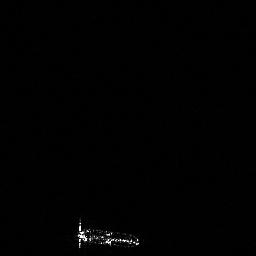ship: (73, 216, 144, 252)
